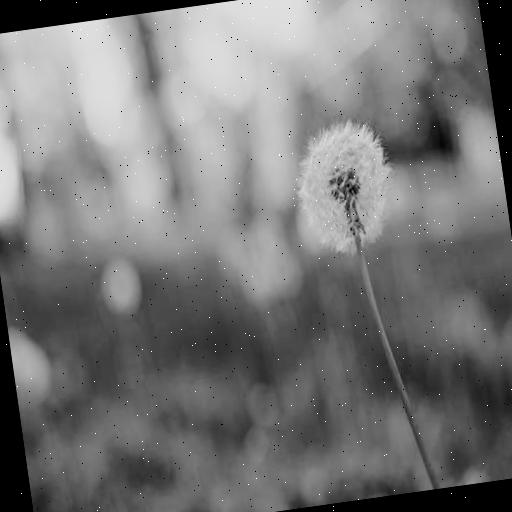dandelion: (288, 115, 402, 255)
